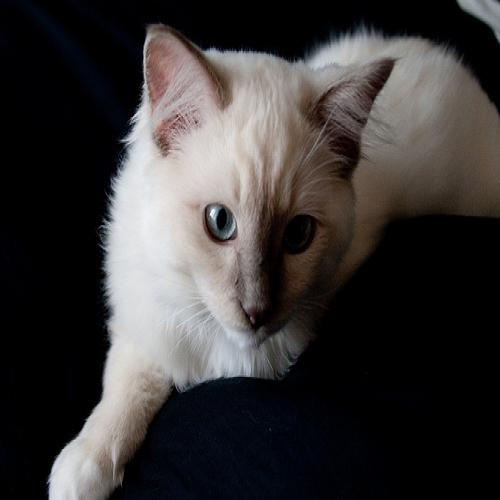ragdoll: (139, 18, 401, 367)
